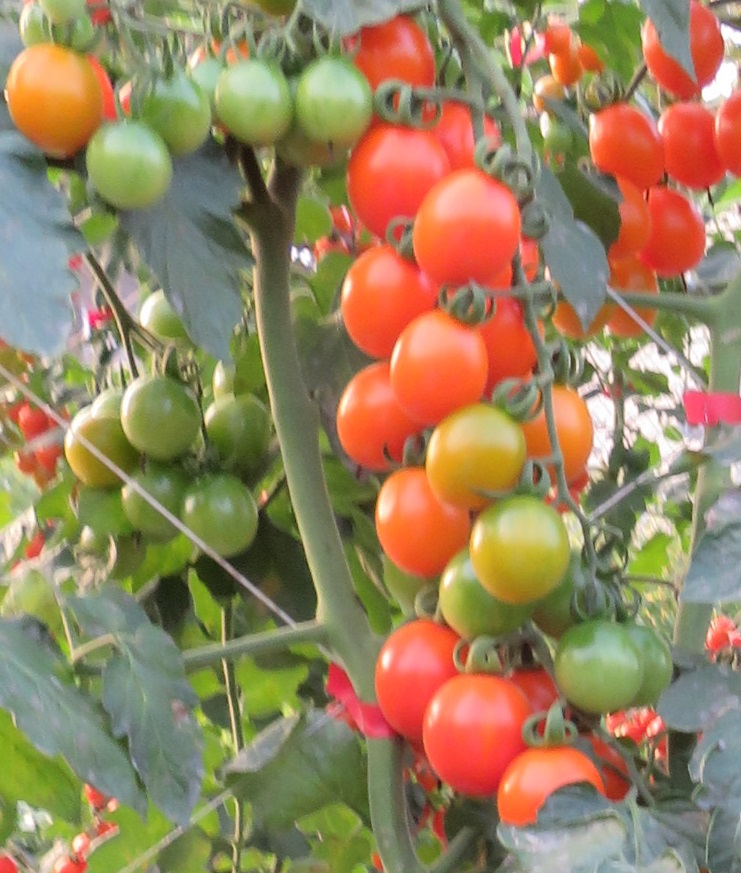green: (427, 410, 539, 508), (477, 492, 572, 607), (288, 47, 371, 147), (84, 120, 171, 210), (124, 73, 219, 155), (555, 622, 638, 713), (214, 53, 295, 146), (122, 374, 206, 463), (179, 468, 258, 562), (118, 468, 185, 544), (207, 395, 279, 465), (65, 418, 122, 492), (134, 286, 209, 341)
orange: (407, 156, 521, 288), (422, 675, 529, 797), (341, 123, 454, 234), (371, 619, 468, 748), (4, 36, 101, 165), (388, 307, 501, 413), (344, 244, 438, 360), (367, 464, 451, 580), (338, 362, 427, 468), (635, 1, 727, 97), (500, 748, 606, 828), (524, 385, 600, 484), (354, 15, 431, 109), (663, 95, 730, 195), (587, 101, 661, 190), (633, 184, 705, 272)
